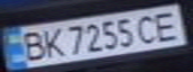2: (81, 20, 106, 53)
5: (115, 15, 139, 47), (100, 17, 121, 51)
7: (63, 22, 87, 56)
B: (15, 28, 48, 62)
C: (133, 11, 163, 46)
E: (148, 8, 187, 43)
K: (36, 25, 66, 60)
